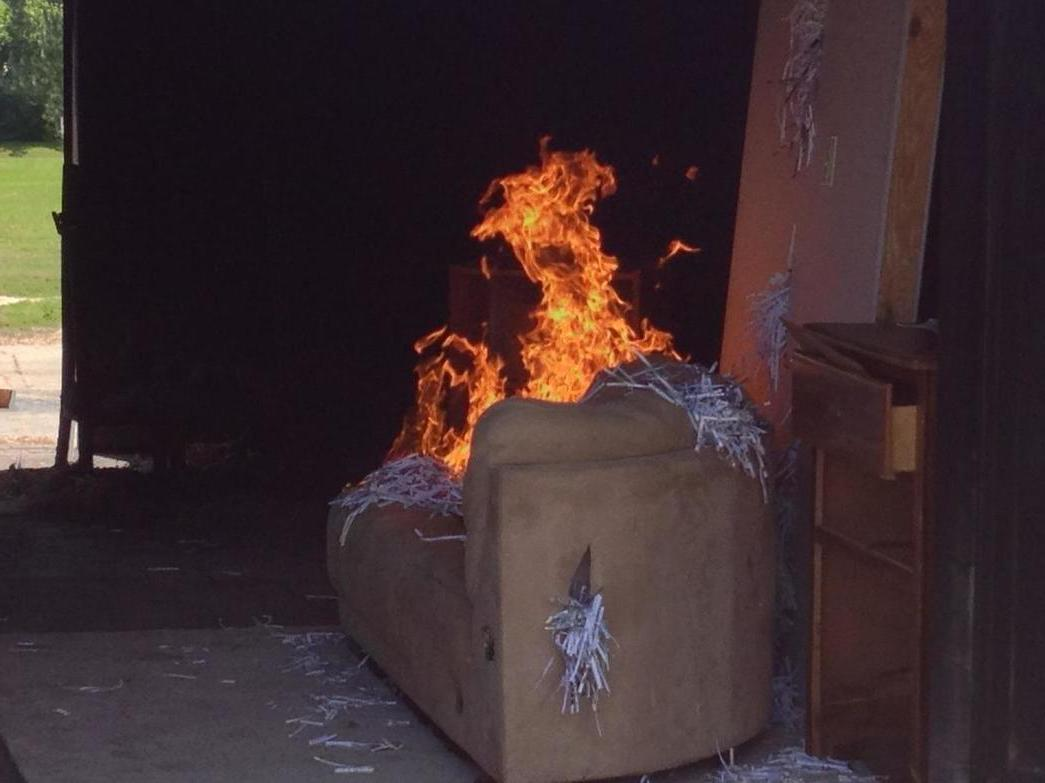Fire: (481, 132, 687, 410), (378, 314, 510, 483)
